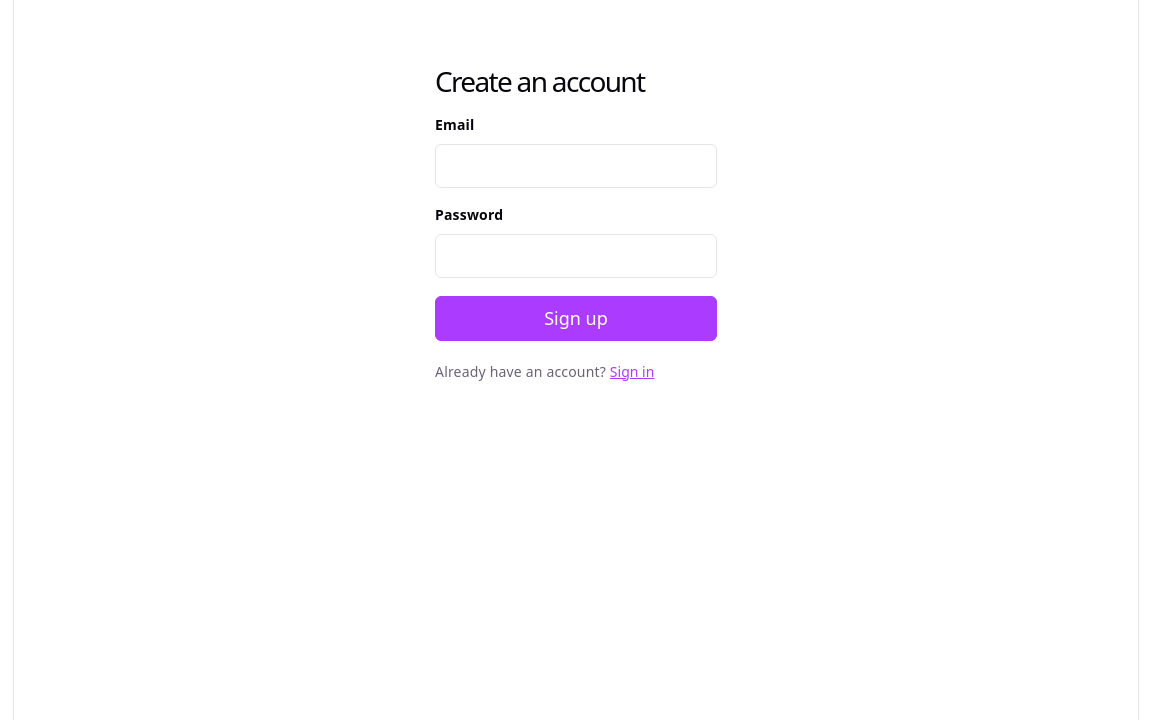
Test case: shows why the account couldn't be made
Type "fan@example.com" into the field labelled "Email" at (576, 166), box top-left (435, 144), bottom-right (717, 188)
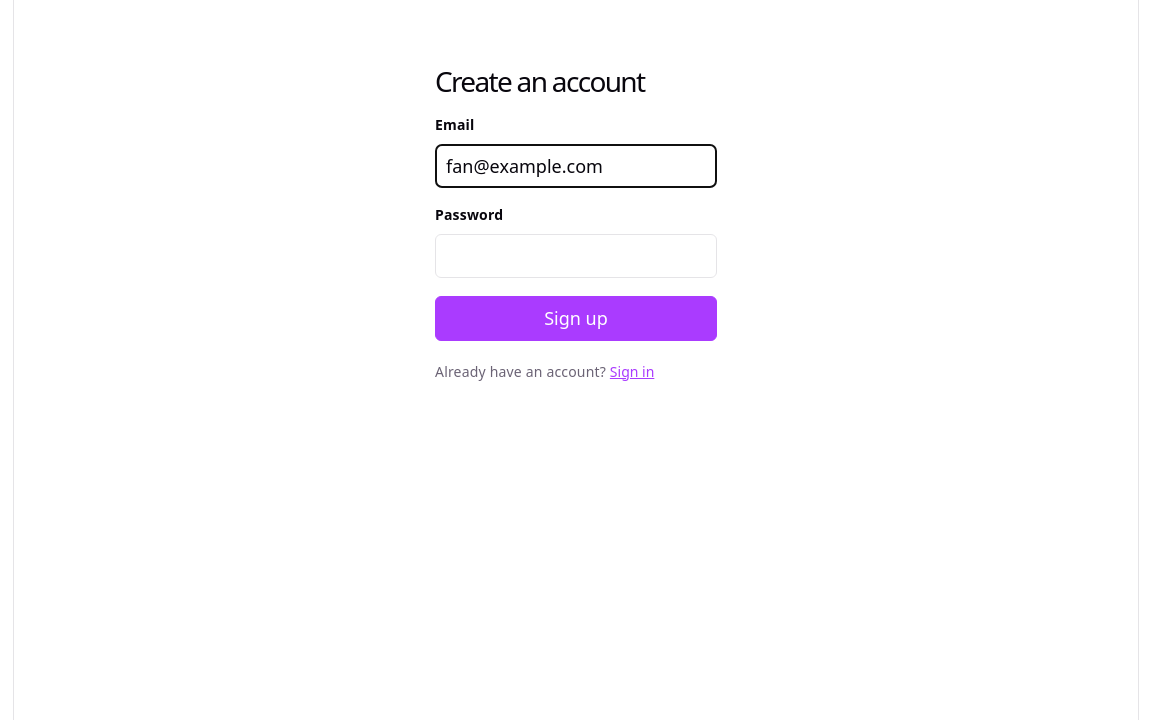
Type "secret123" into the password field labelled "Password" at (576, 256), box top-left (435, 234), bottom-right (717, 278)
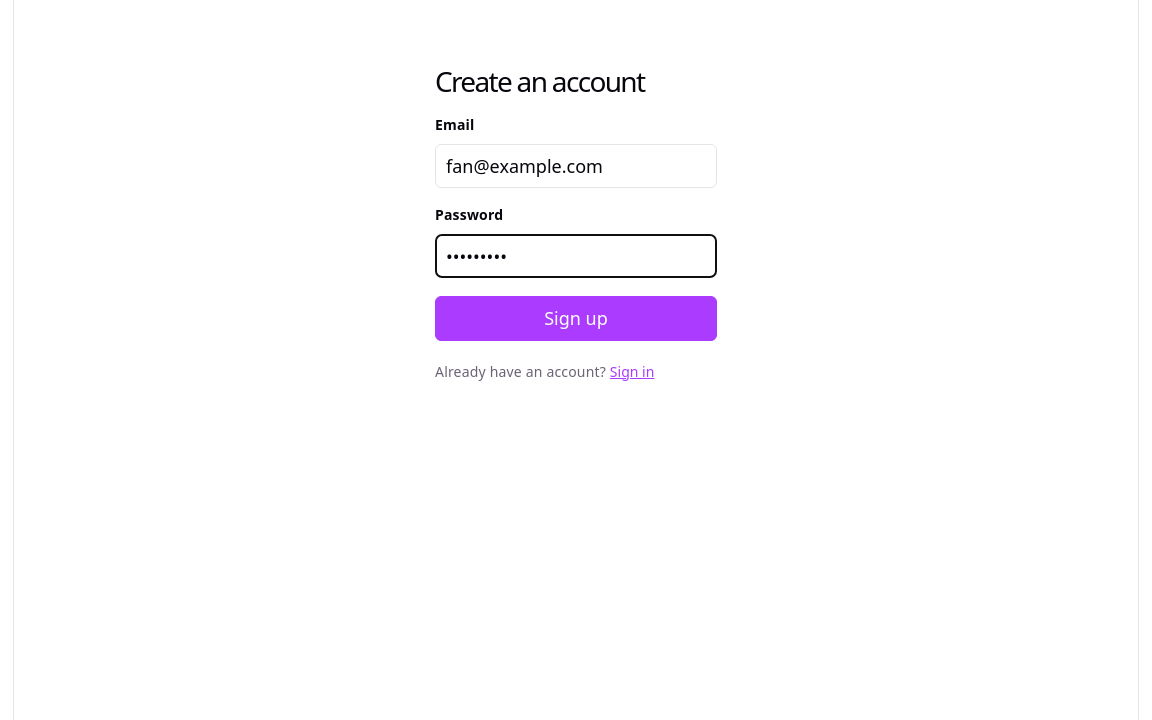
Click the button "Sign up" at (576, 319), box top-left (435, 296), bottom-right (717, 341)
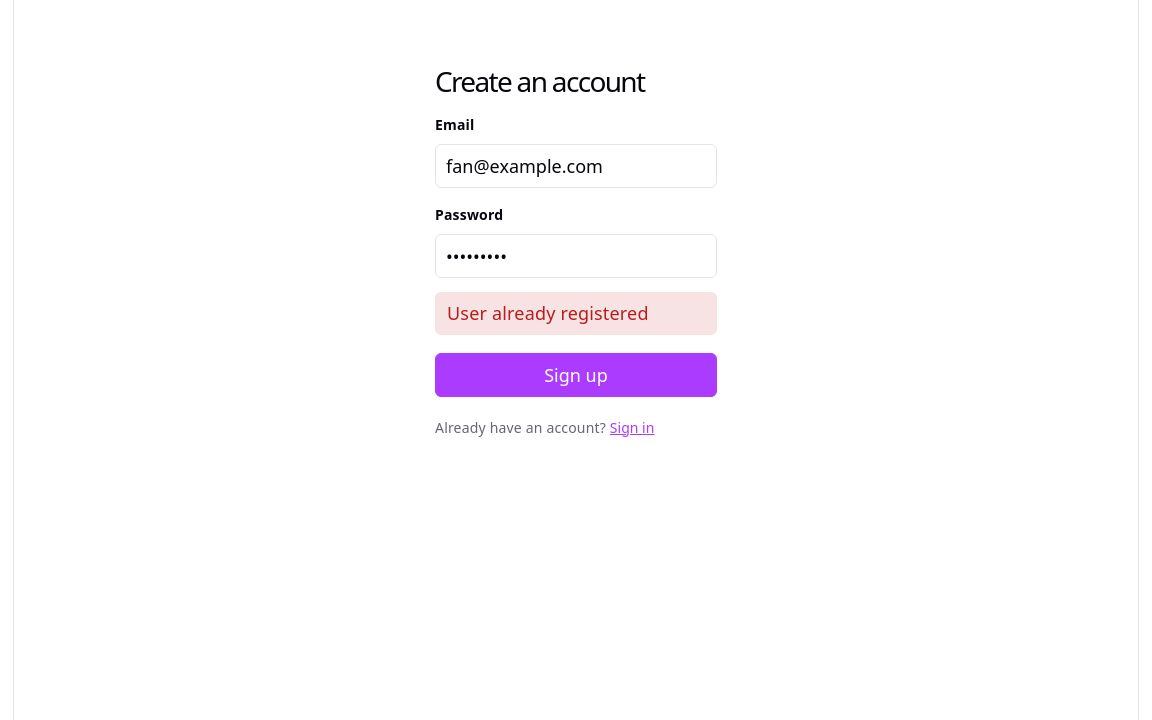
expect the message reads "User already registered": met, box top-left (447, 302), bottom-right (649, 326)
